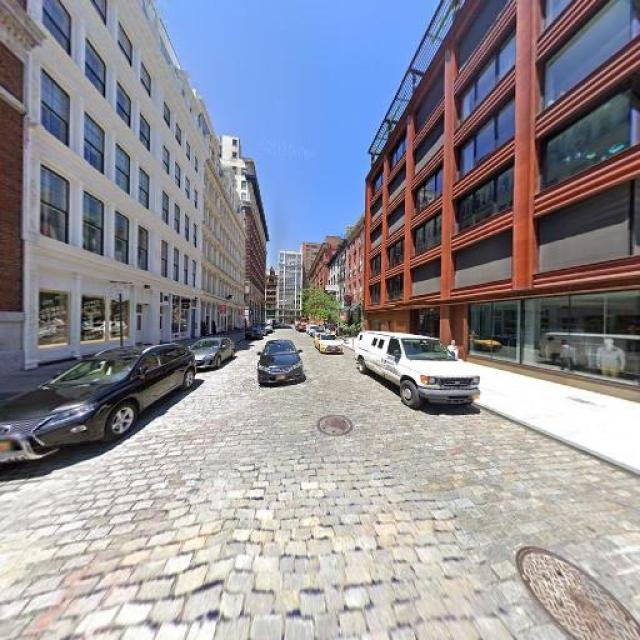Building: (365, 1, 640, 398), (33, 1, 199, 368), (1, 1, 25, 377)
